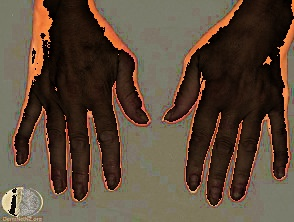Nail_psoriasis: (204, 183, 225, 207), (69, 179, 88, 203), (162, 102, 179, 125), (50, 174, 66, 196), (132, 107, 152, 124), (11, 149, 28, 168), (103, 172, 119, 192), (188, 172, 202, 194), (231, 182, 246, 202), (272, 165, 284, 181)
